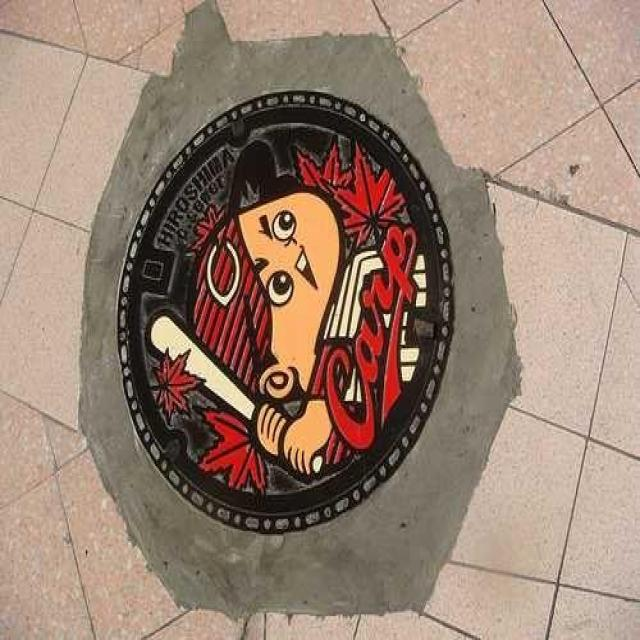manhole: (118, 95, 456, 535)
